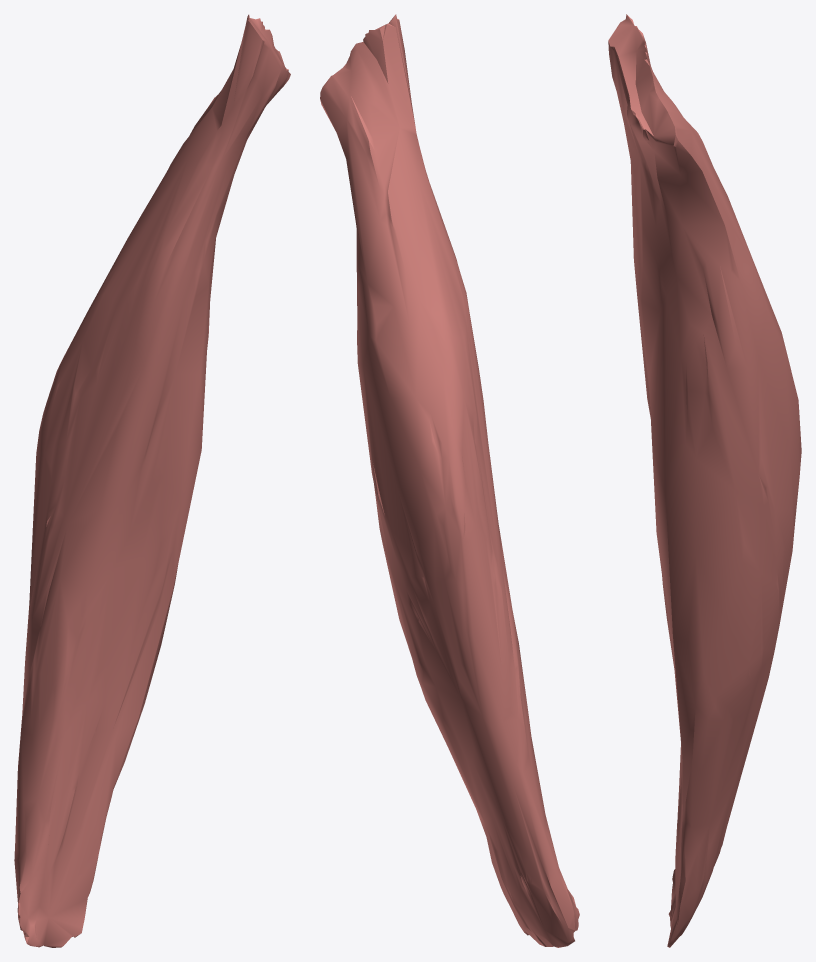
File: fma37699_fj1479.glb
3 views of the same model, side by side, from view 1: azimuth 30°, elevation 25°; view 2: azimuth 150°, elevation 25°; view 3: azimuth 270°, elevation 25° (orthographic). The views are drawn at different scales.
Visible parts, largest first — view 1: FMA37699_FJ1479; view 2: FMA37699_FJ1479; view 3: FMA37699_FJ1479.
Boxes of the visible parts, x1,y1,x2,y2 form: FMA37699_FJ1479: (14,14,290,947); FMA37699_FJ1479: (320,14,579,947); FMA37699_FJ1479: (608,14,801,947).
Bounding box in the file's own units: 0.0818 × 0.2655 × 0.0453.
